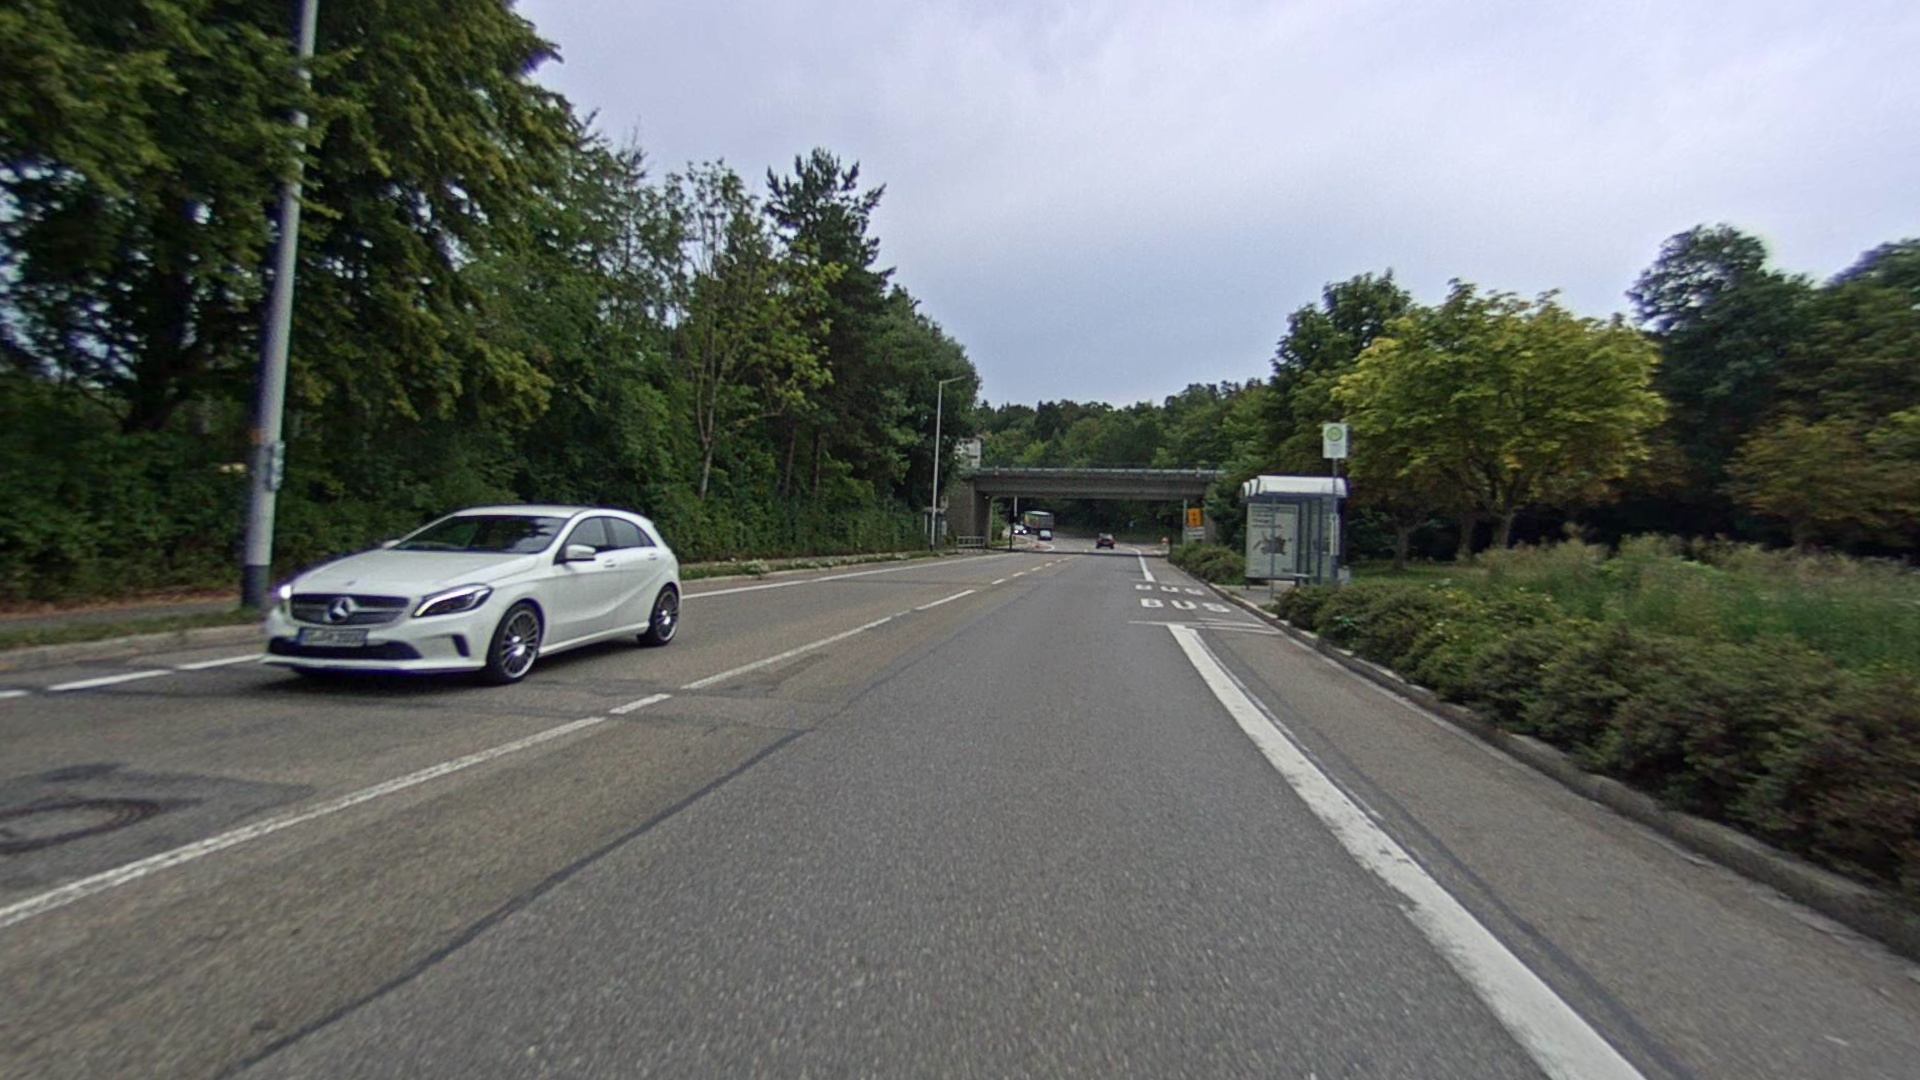car: (255, 501, 684, 688)
